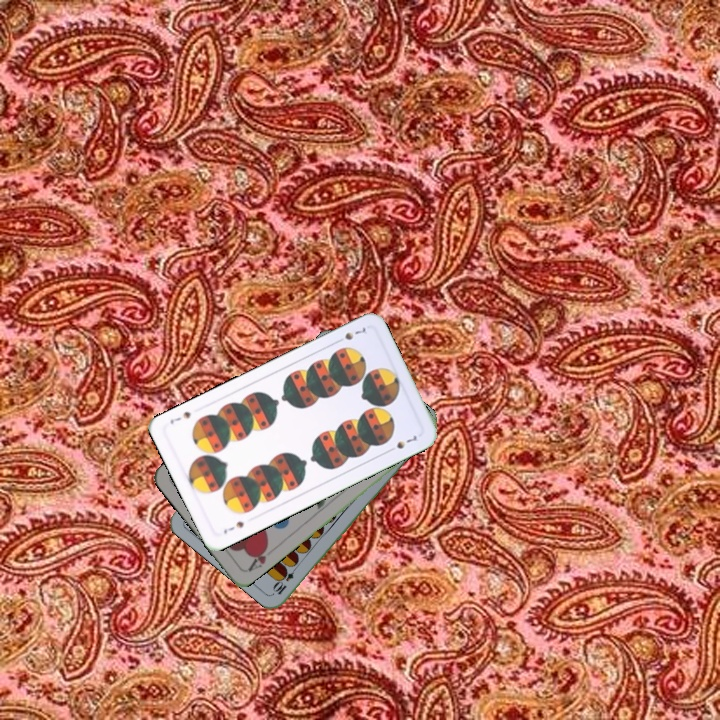E10: (270, 561, 301, 597)
HA: (244, 540, 271, 575)
S7: (332, 322, 369, 346), (219, 517, 247, 536)
